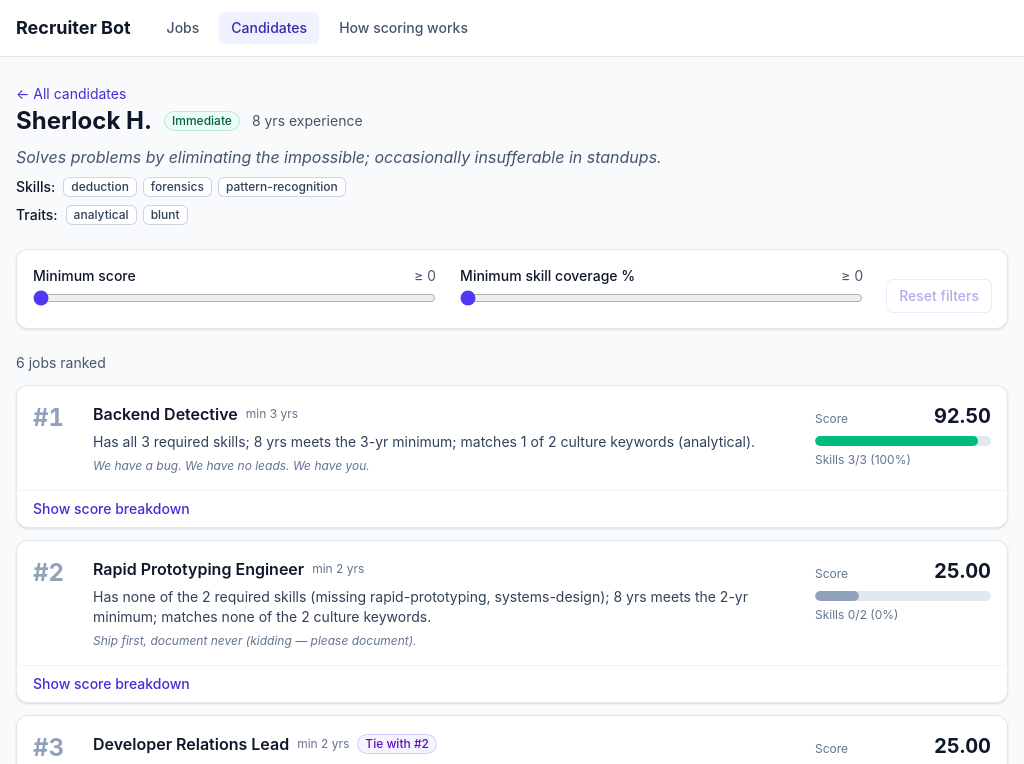
candidate matches page › renders ranked jobs with the same row and breakdown components
Expected: the heading "Sherlock H." is shown, [16,105,152,137]
Expected: the text "92.50" is shown, [934,402,991,430]
Click the button "Show score breakdown" below "Backend Detective": (52, 508) [33,491,991,527]
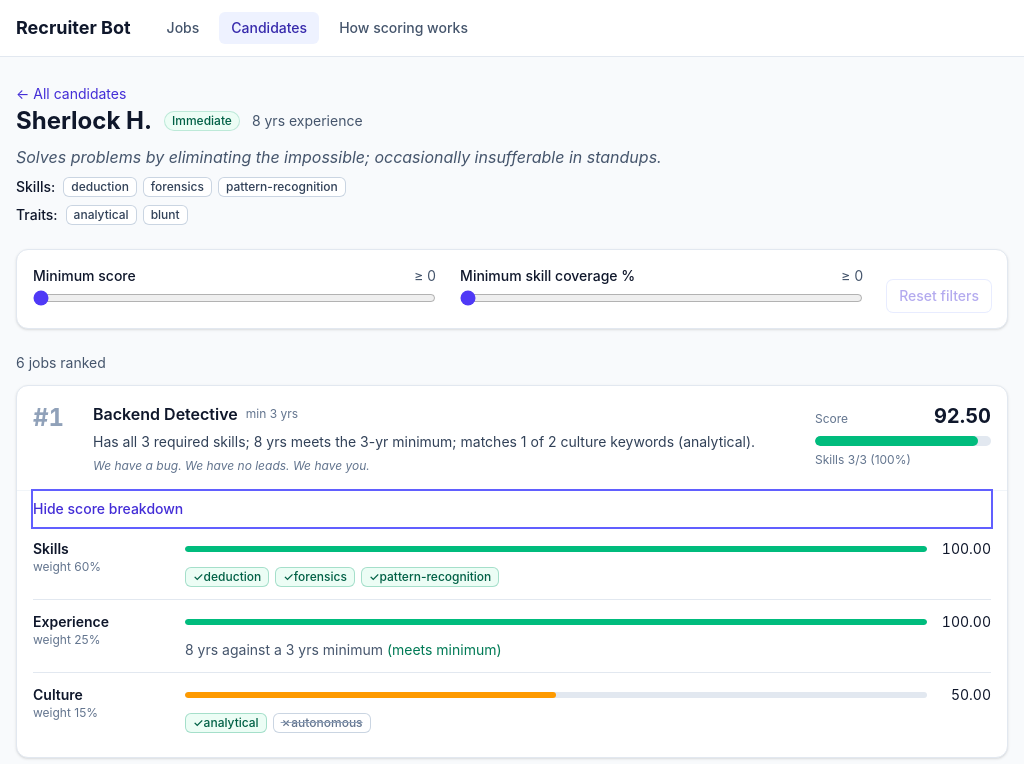
Expected: the text "weight 60%" is shown, [33,559,101,574]
